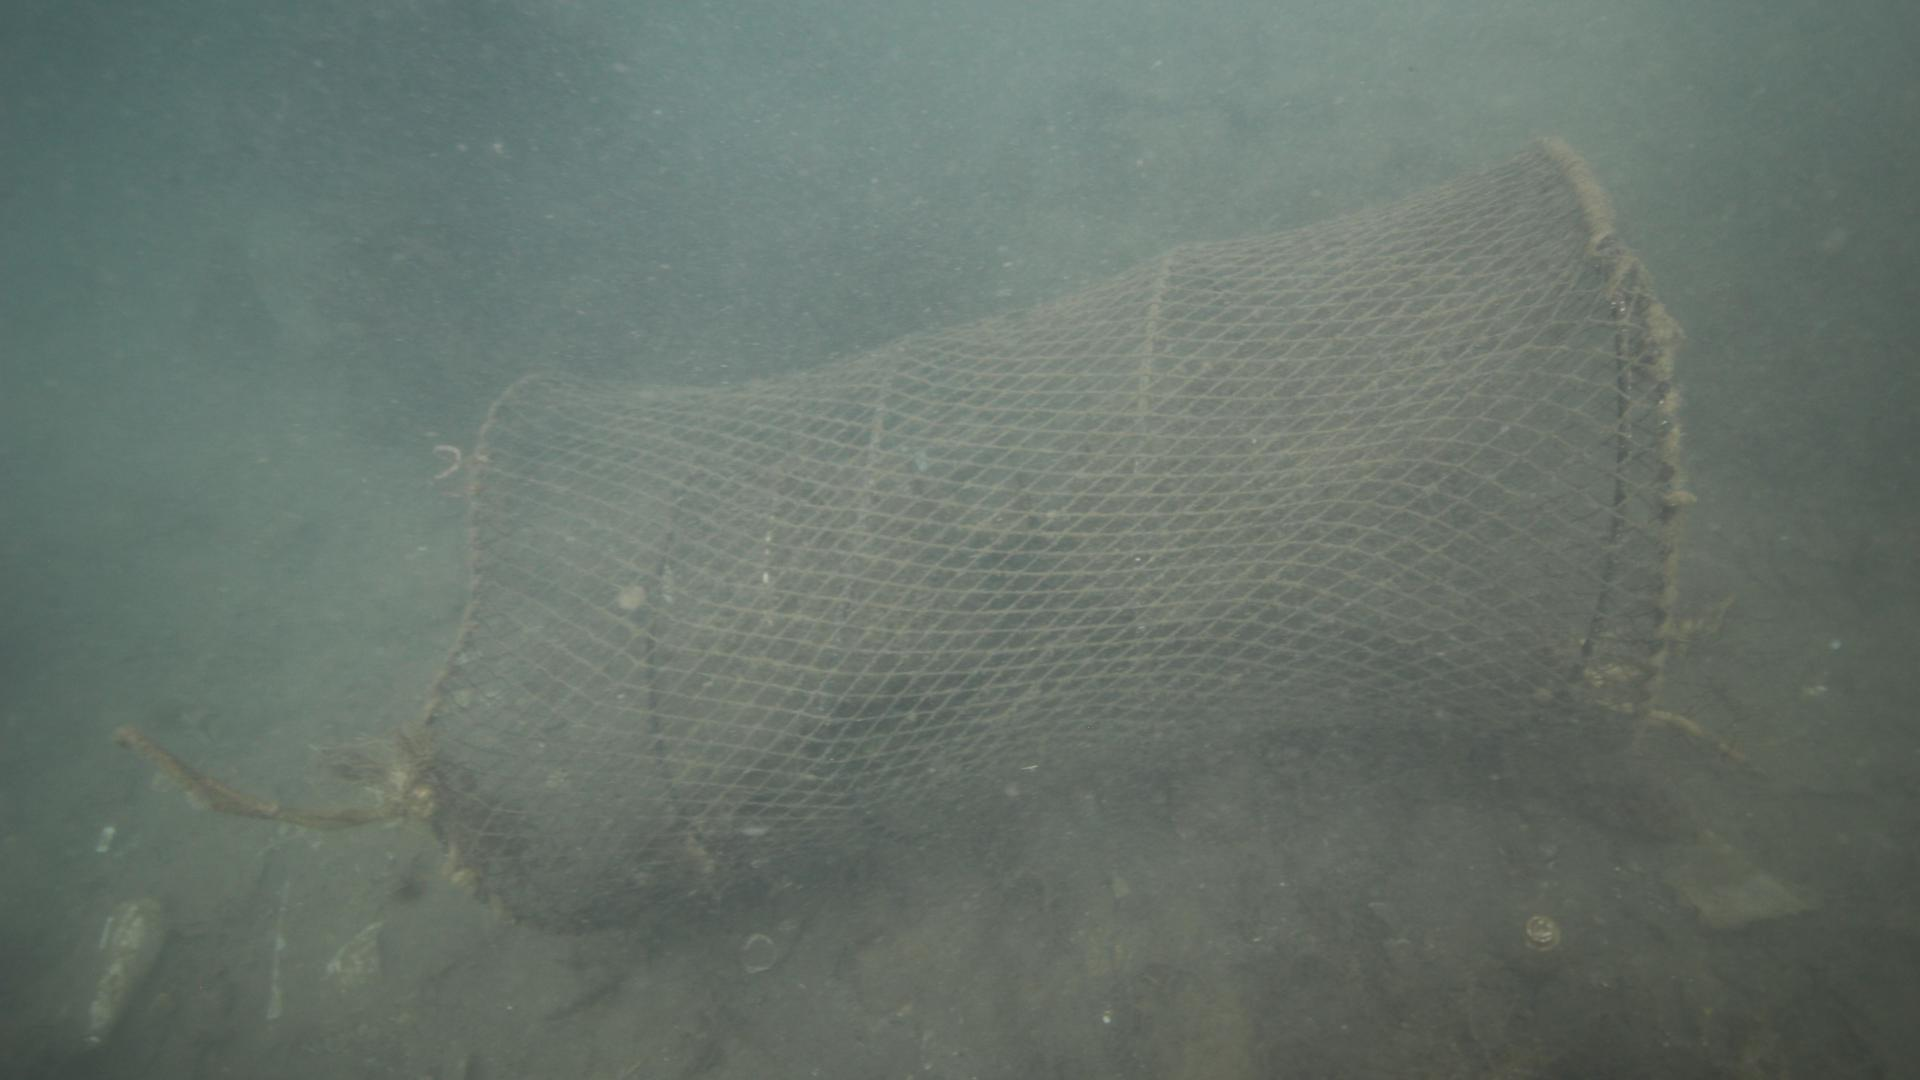rope: (111, 712, 396, 835)
spring fish trap: (398, 129, 1680, 939)
